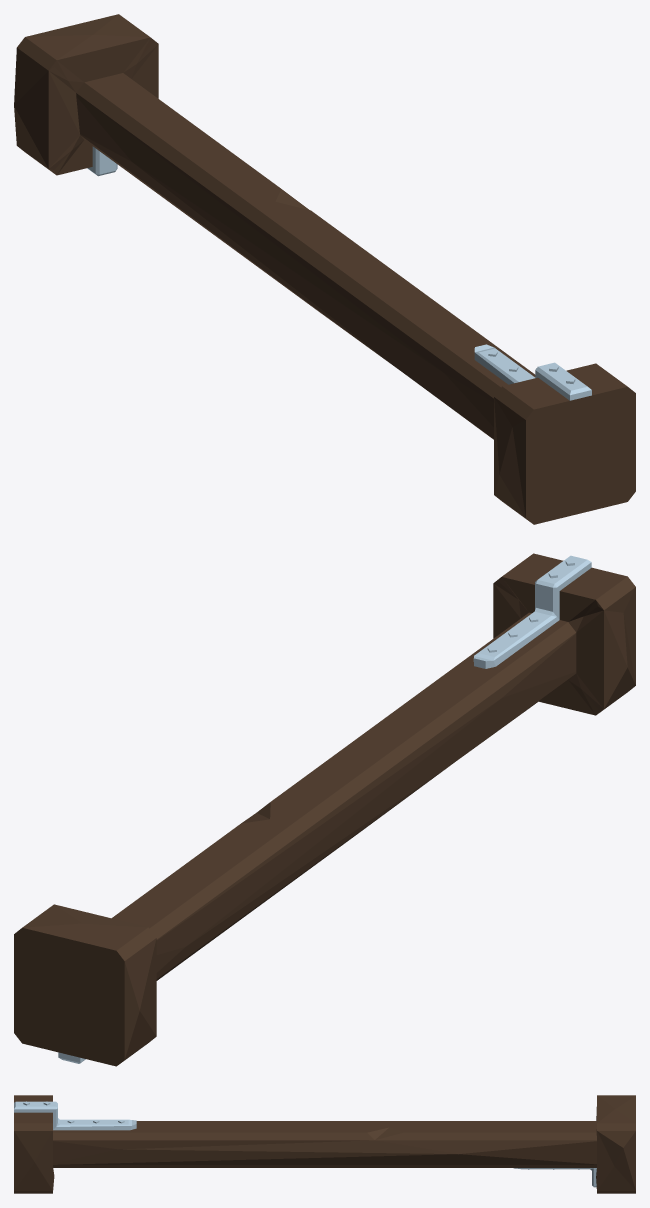
File: Beam_Long.fbx
3 renders of one model, top to bottom at view 1: azimuth 30°, elevation 25°; view 2: azimuth 150°, elevation 25°; view 3: azimuth 270°, elevation 25°, orthographic. The views are drawn at different scales.
Visible parts, largest first — view 1: Beam_Long; view 2: Beam_Long; view 3: Beam_Long.
Part boxes in pixels (x1,y1,x2,y2): Beam_Long: (14,14,635,524); Beam_Long: (14,553,635,1066); Beam_Long: (14,1095,635,1193).
Bounding box in the file's own units: 2.32 × 2.38 × 16.01.
